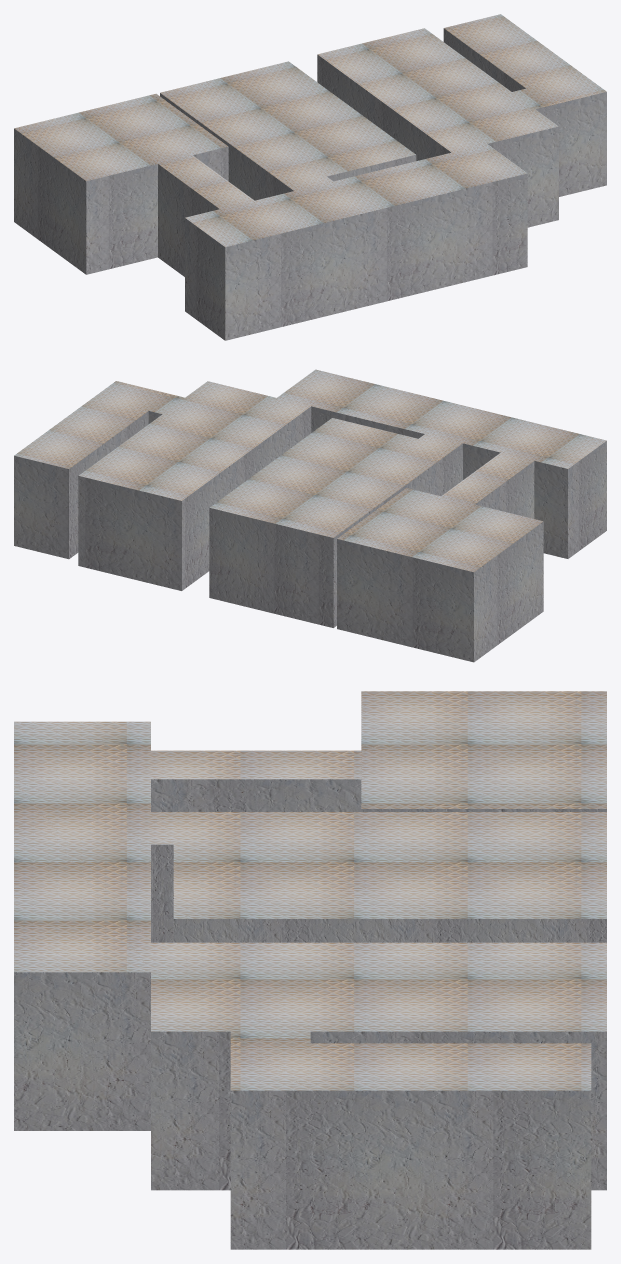
Rendered from TestLevel.glb.
The picture shows the model from 3 angles, top to bottom: view 1: azimuth 30°, elevation 25°; view 2: azimuth 150°, elevation 25°; view 3: azimuth 270°, elevation 25°; orthographic projection. The views are drawn at different scales.
Visible parts, largest first — view 1: Plane; view 2: Plane; view 3: Plane.
Part boxes in pixels (x1=…): Plane: x1=14, y1=14, x2=606, y2=340; Plane: x1=14, y1=369, x2=606, y2=662; Plane: x1=14, y1=691, x2=606, y2=1249.
Bounding box in the file's own units: 26.95 × 5 × 16.91.
Materials: 3 (3 with a texture image).
